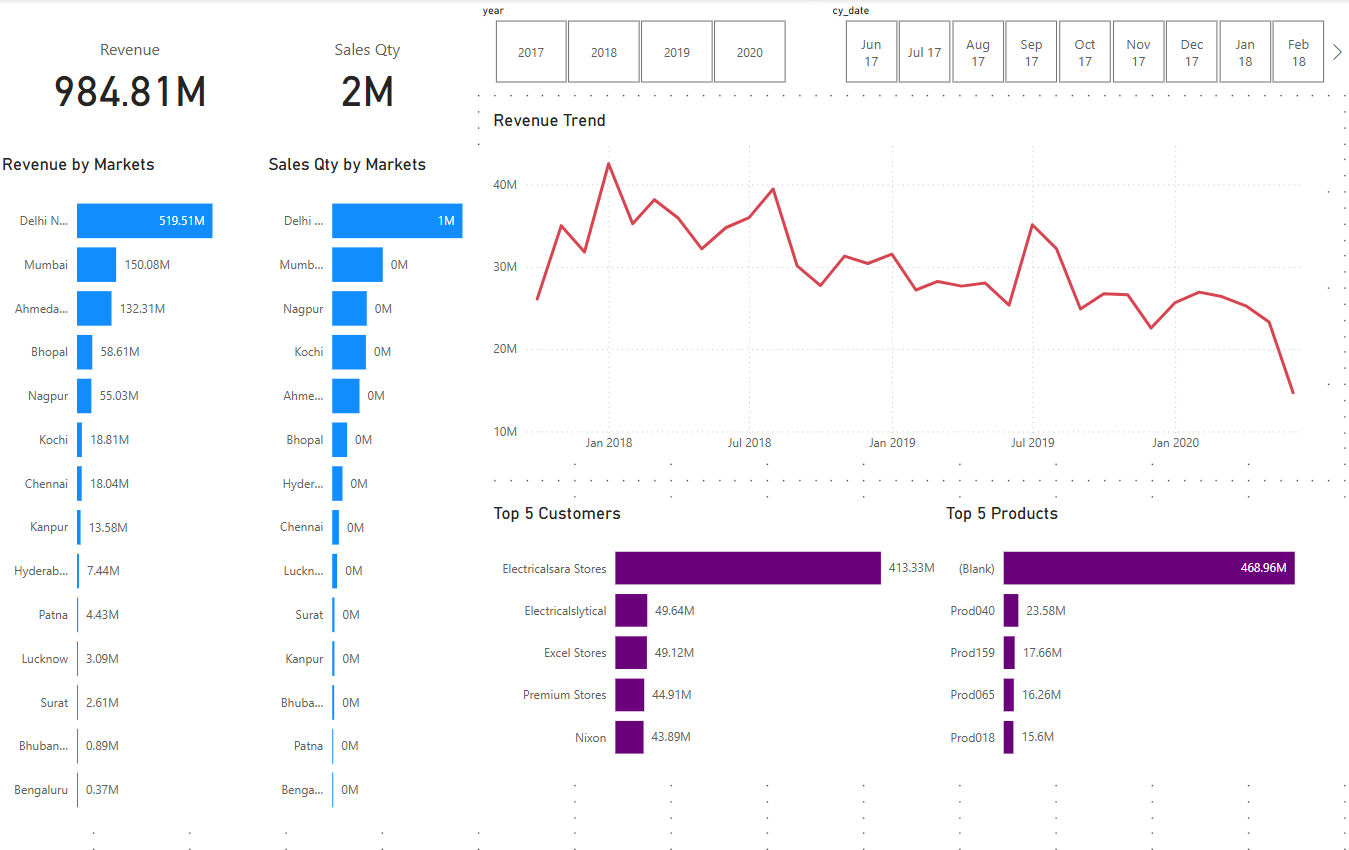

This screenshot's page, from the dashboard's own definition file:
{"tool":"powerbi","page":{"name":"Page 1","canvas":[1350,850],"ordinal":0},"visuals":[{"type":"cardVisual","fields":{"Data":["BaseMeasures.Revenue"]},"box":[0,0,265,154.1],"z":0},{"type":"cardVisual","fields":{"Data":["BaseMeasures.Sales Qty"]},"box":[266.4,0,205.5,154.1],"z":1000},{"type":"barChart","title":"Revenue by Markets","fields":{"Y":["BaseMeasures.Revenue"],"Category":["sales markets.markets_name"]},"box":[0,154.1,266.4,674.7],"z":2000},{"type":"barChart","title":"Sales Qty by Markets","fields":{"Y":["BaseMeasures.Sales Qty"],"Category":["sales markets.markets_name"]},"box":[265,154.1,225.8,674.7],"z":3000},{"type":"slicer","fields":{"Values":["sales date.year"]},"box":[471.3,0,338.9,90.2],"z":4000},{"type":"slicer","fields":{"Values":["sales date.cy_date"]},"box":[820.5,0,527.6,90.6],"z":5000},{"type":"barChart","title":"Top 5 Customers","fields":{"Y":["BaseMeasures.Revenue"],"Category":["sales customers.custmer_name"]},"box":[490.2,501.8,450.9,273.5],"z":6000},{"type":"barChart","title":"Top 5 Products","fields":{"Y":["BaseMeasures.Revenue"],"Category":["sales products.product_code"]},"box":[941.1,501.8,407.3,273.5],"z":7000},{"type":"lineChart","title":"Revenue Trend","fields":{"Y":["BaseMeasures.Revenue"],"Category":["sales date.cy_date.Variation.Date Hierarchy.Year","sales date.cy_date.Variation.Date Hierarchy.Quarter","sales date.cy_date.Variation.Date Hierarchy.Month","sales date.cy_date.Variation.Date Hierarchy.Day"]},"box":[490.2,110.5,832,350.5],"z":8000}]}

Visuals, with their boxes in screenshot pixels (x1, y1, x2, y2), scaled from the page's 1350x850 canvas onto the 1349x850 screenshot:
cardVisual - BaseMeasures.Revenue: 0 0 265 154
cardVisual - BaseMeasures.Sales Qty: 266 0 472 154
"Revenue by Markets" barChart: 0 154 266 829
"Sales Qty by Markets" barChart: 265 154 490 829
slicer - sales date.year: 471 0 810 90
slicer - sales date.cy_date: 820 0 1347 91
"Top 5 Customers" barChart: 490 502 940 775
"Top 5 Products" barChart: 940 502 1347 775
"Revenue Trend" lineChart: 490 110 1321 461
